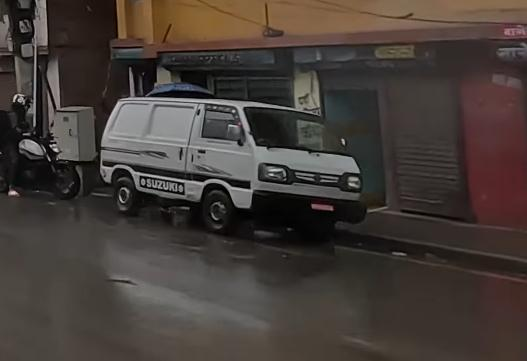bike: (0, 124, 84, 204)
van: (89, 82, 375, 239)
